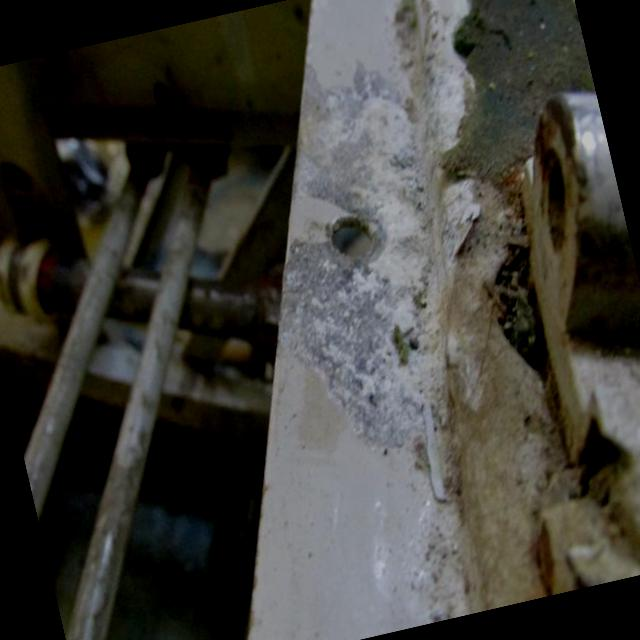Missing Fastener: (308, 188, 389, 274)
